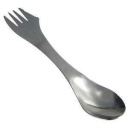fork: (2, 4, 128, 120)
